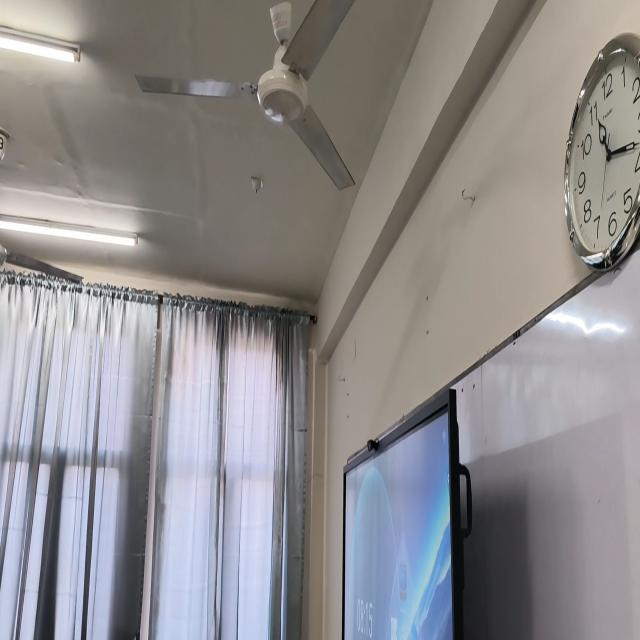Digital board: (343, 388, 472, 639)
Light: (0, 215, 139, 246), (0, 26, 80, 63)
